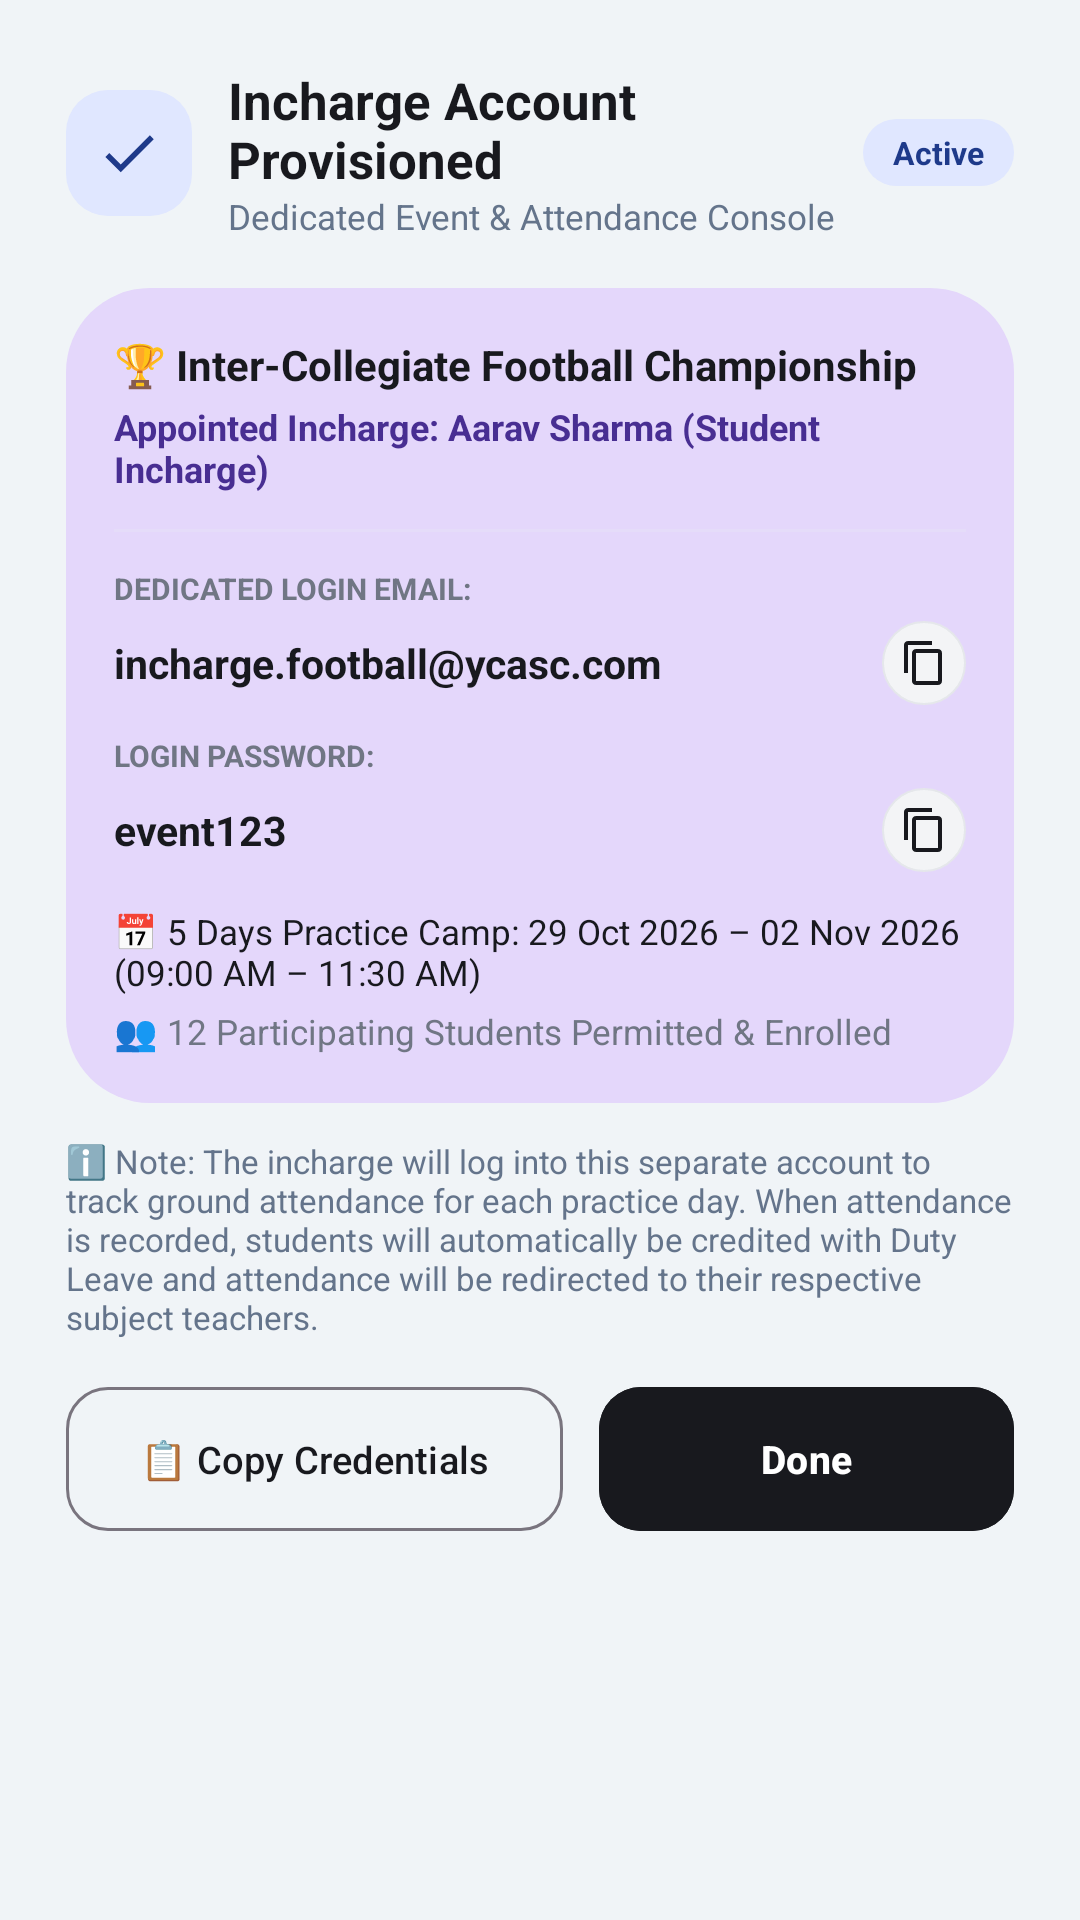

Icons on this 1080 x 1920 Android screen, each with the point to tap as point (x, y):
check: point (129, 153)
